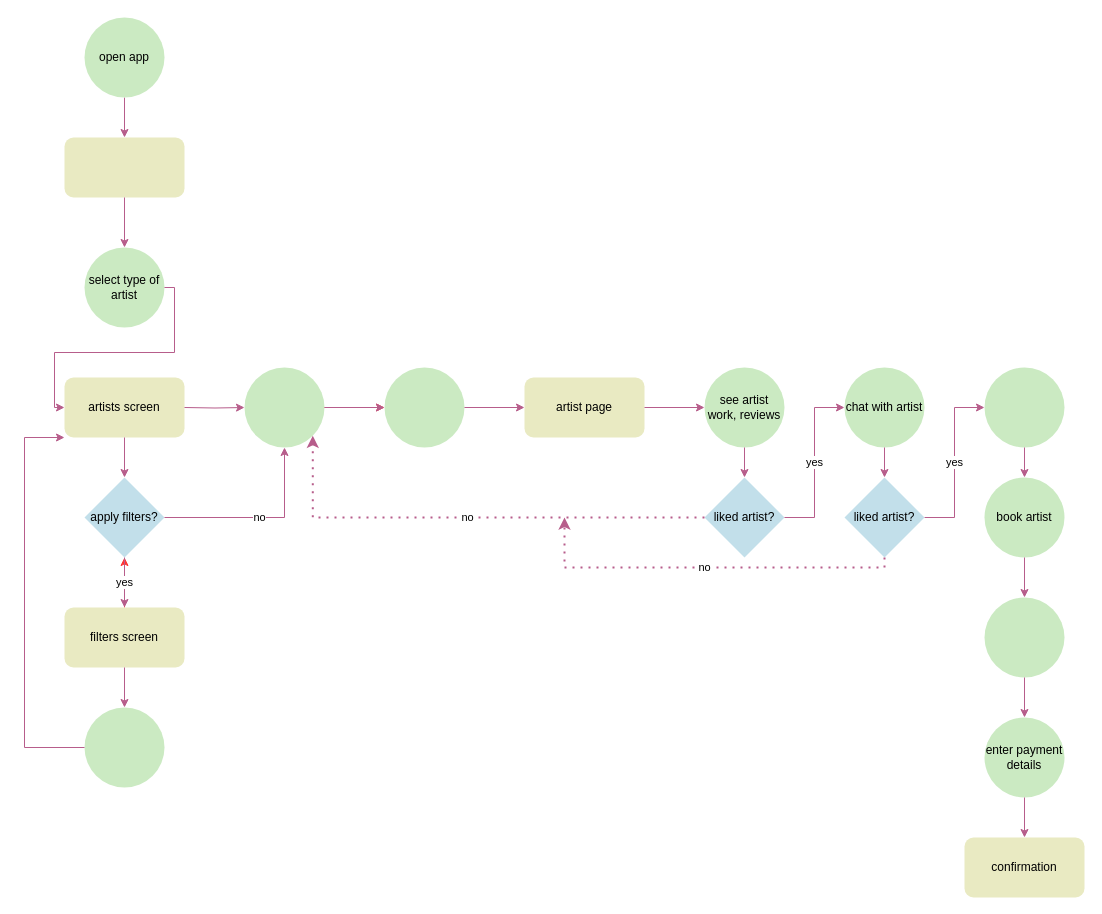
Some shapes in this 1102 by 914 pixel diagram are drawn without their labels. The shapes that lost their labels are listed below. From the top down, each one's centre as x and y in pixels, then its label:
point (124, 167): home screen
point (284, 407): view artists
point (424, 407): select artist
point (1024, 407): schedule a meet
point (1024, 637): checkout
point (124, 747): apply filters
